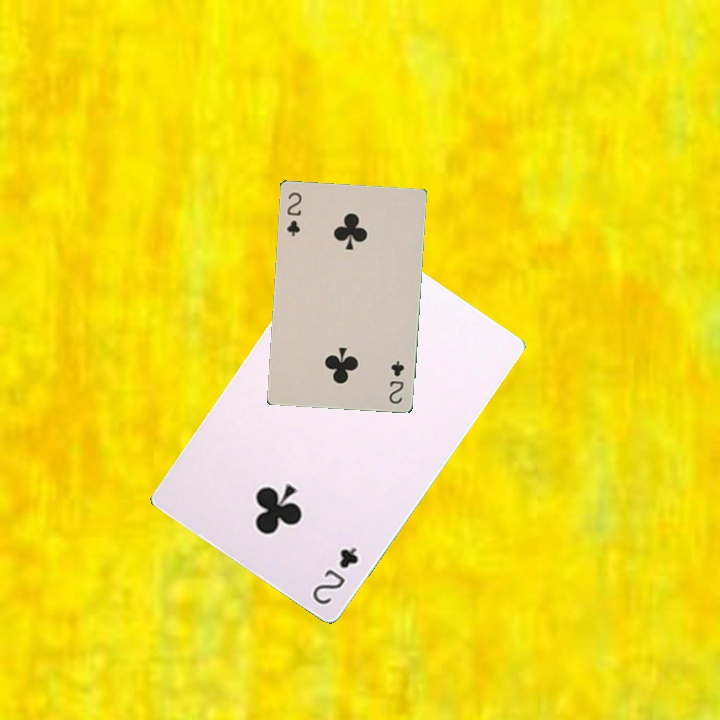2c: (308, 543, 361, 608), (282, 188, 304, 239), (385, 356, 407, 406)
